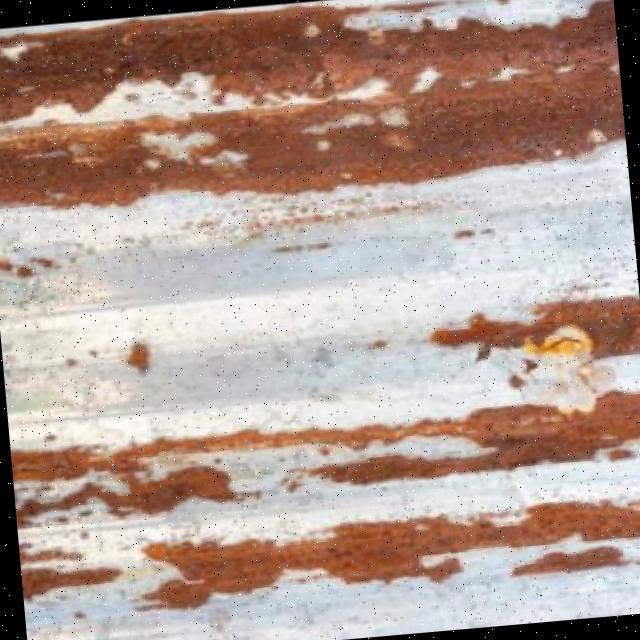Corrosion: (0, 0, 640, 640), (9, 385, 640, 624), (0, 0, 626, 221), (132, 489, 640, 612), (425, 290, 640, 373)
